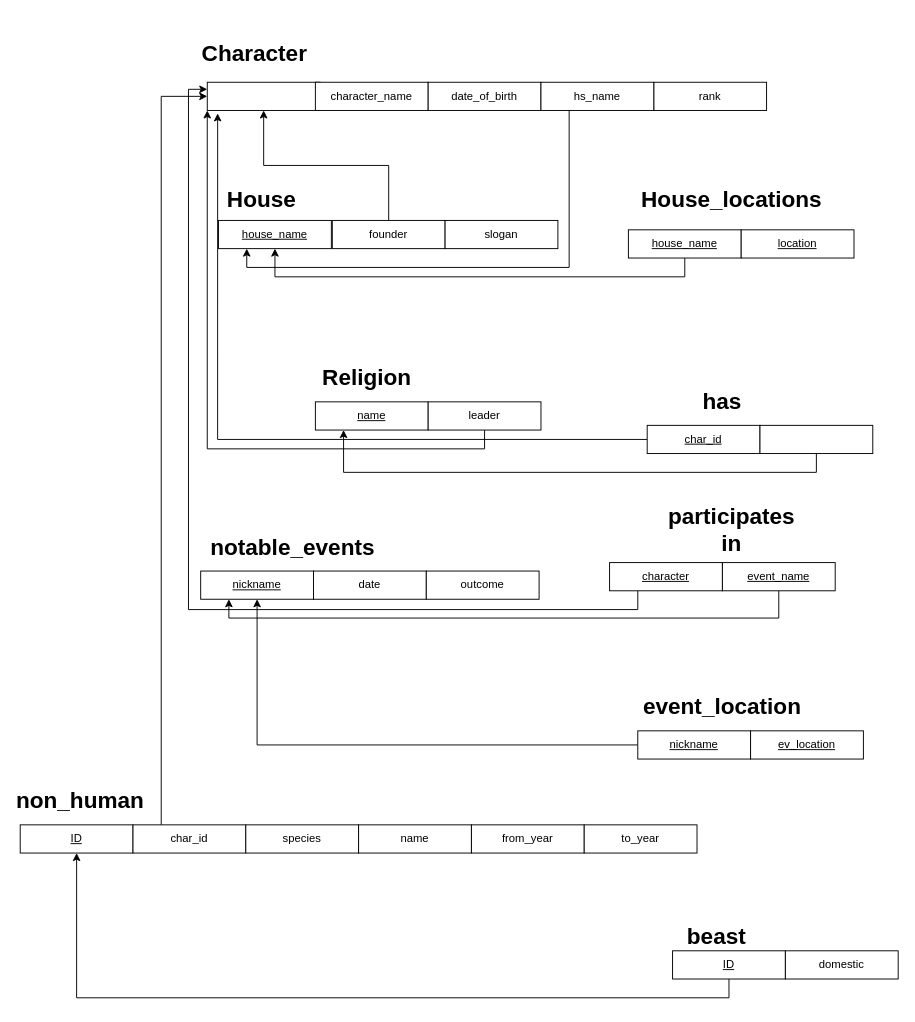
Some shapes in this 915 by 1022 pixel diagram are drawn without their labels. The shapes that lost their labels are listed below. From the top down, each one's centre as x and y in pixels, then its label:
(x=263, y=95): character_ID
(x=816, y=439): rel_name
